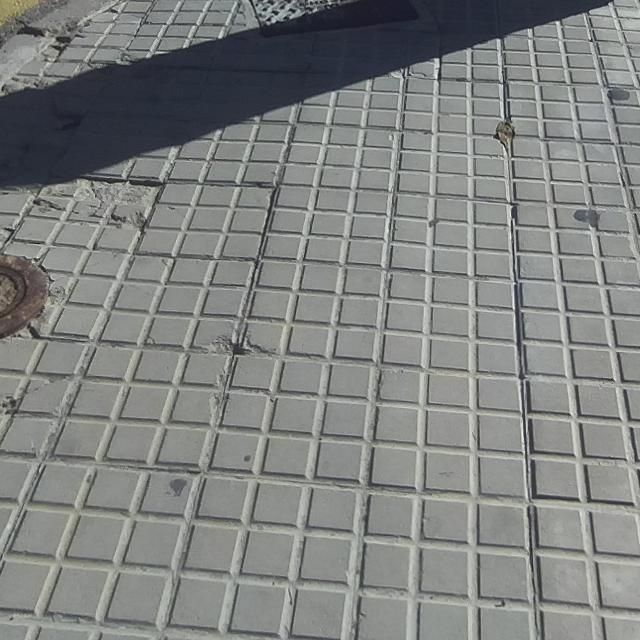calcada_quebrada: (19, 166, 169, 240), (192, 317, 285, 388), (0, 67, 65, 101), (43, 102, 94, 145)
